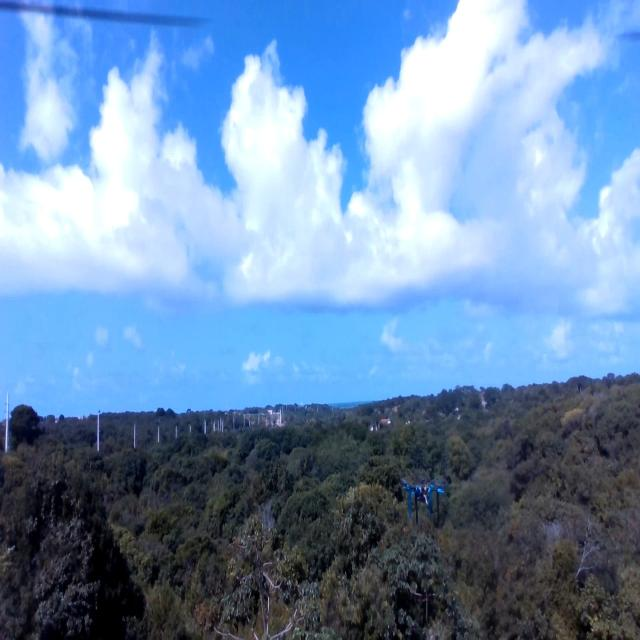-uav-: (392, 461, 463, 542)
